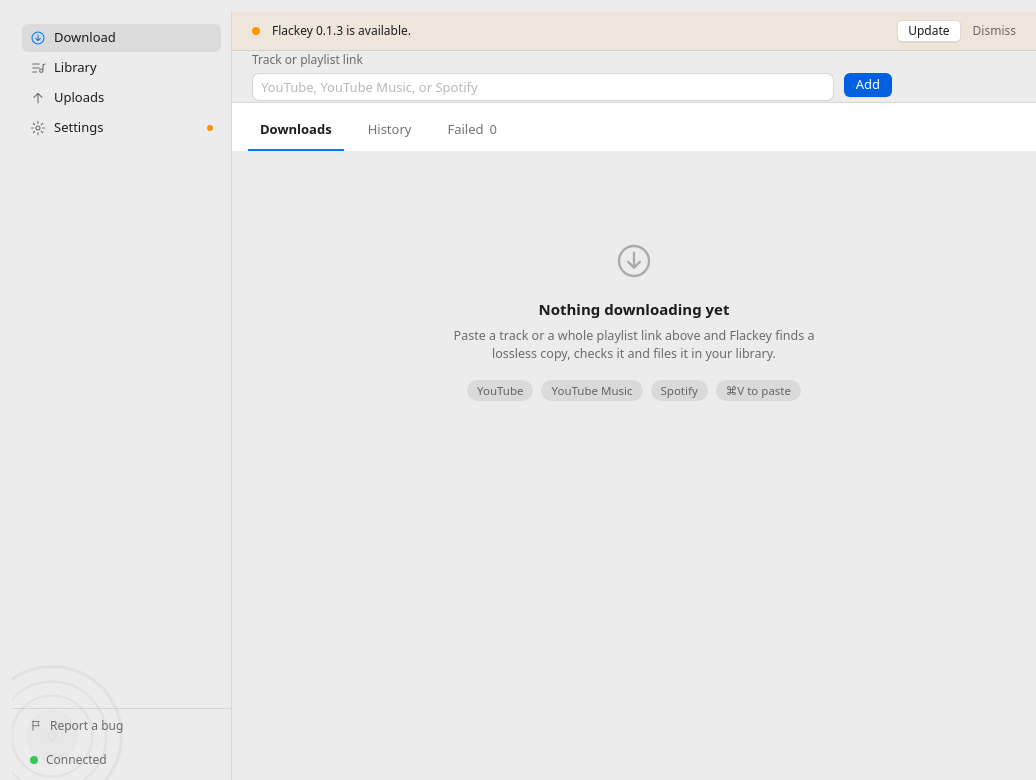
Test case: the update banner › can be waved away, and leaves the sidebar dot behind when it is
The width and height of the screenshot is (1036, 780).
Expected: the text "Flackey 0.1.3 is available." is shown, [272,22,411,39]
Expected: the element with class "nav-badge" is shown, [207,125,213,131]
Step 1. Click the button "Dismiss" → {"x": 994, "y": 31}, box [973,23,1016,39]
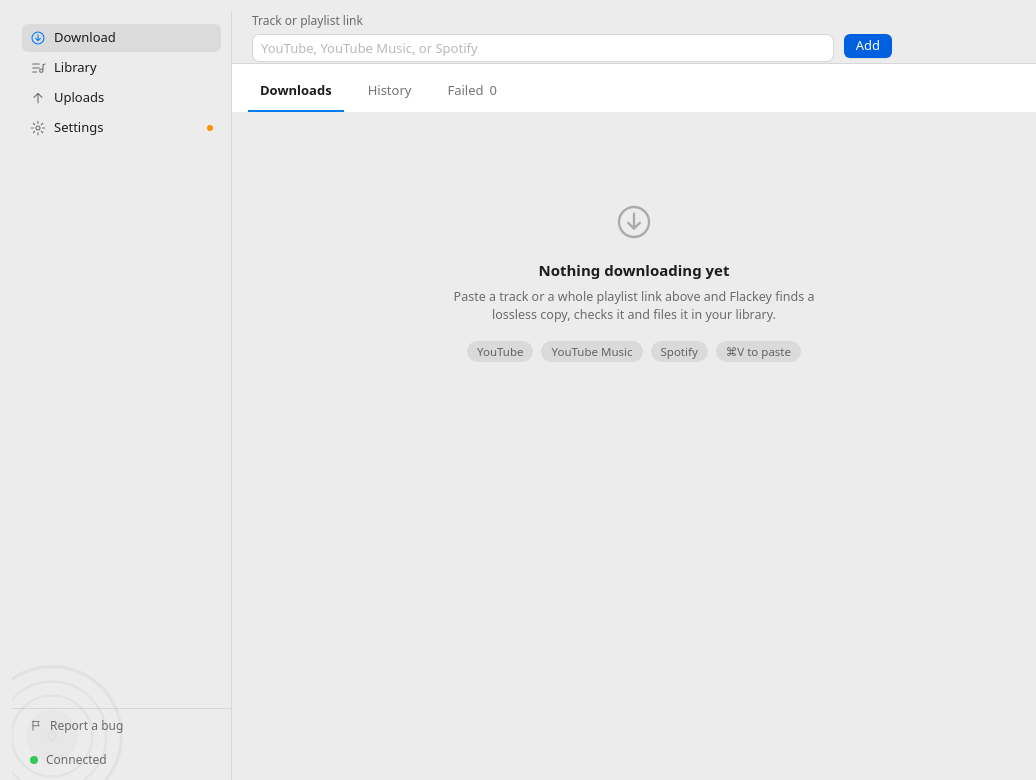
Expected: the element with class "nav-badge" is shown, [207,125,213,131]
Expected: the text "Flackey 0.1.3 is available." is gone
